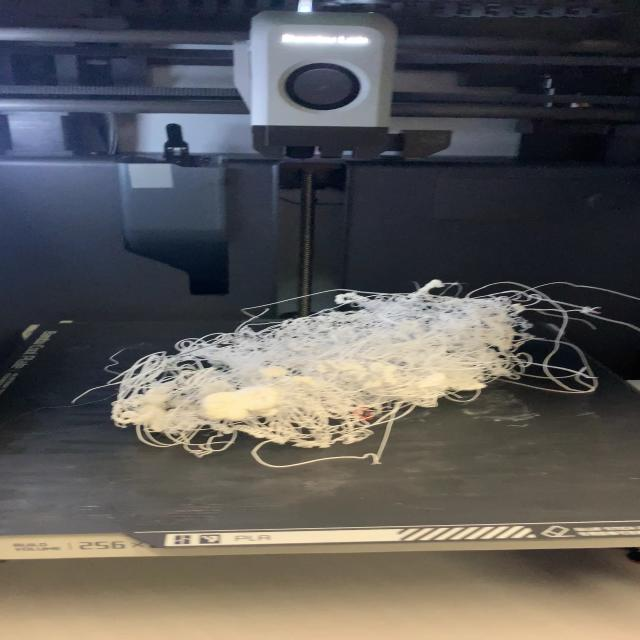spaghetti: (68, 276, 635, 470)
